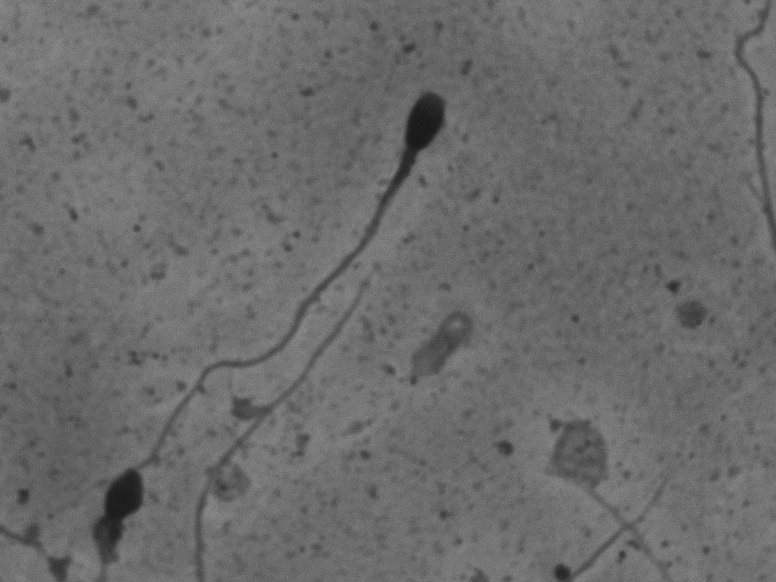Normal: (121, 72, 469, 471)
